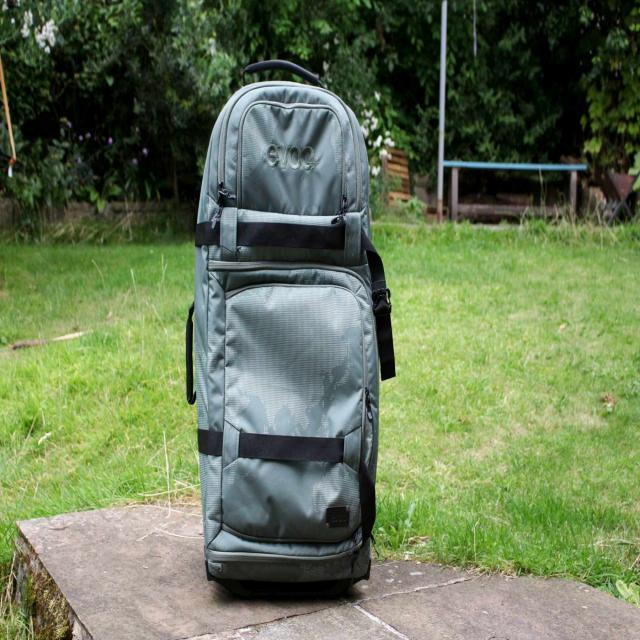Backpacks: (190, 56, 386, 594)
